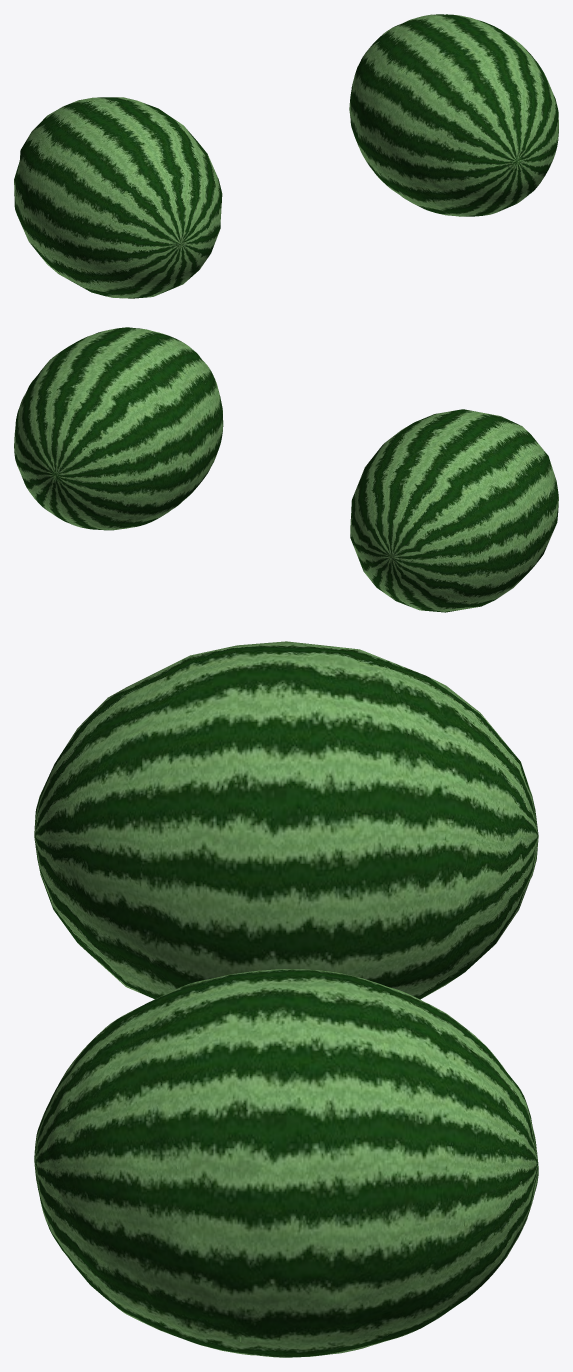
The model's file is melancia.glb.
3 renders of one model, top to bottom at view 1: azimuth 30°, elevation 25°; view 2: azimuth 150°, elevation 25°; view 3: azimuth 270°, elevation 25°, orthographic. The views are drawn at different scales.
Visible parts, largest first — view 1: m4k_1, m2k_0; view 2: m4k_1, m2k_0; view 3: m4k_1, m2k_0.
Boxes of the visible parts, box(x1,y1,x2,y2) form: m4k_1: box(349, 14, 558, 216); m2k_0: box(14, 97, 222, 298); m4k_1: box(14, 327, 223, 530); m2k_0: box(350, 409, 558, 612); m4k_1: box(34, 969, 538, 1357); m2k_0: box(34, 641, 538, 999).
Bounding box in the file's own units: 6 × 2.01 × 2.6.
Materials: 2 (2 with a texture image).
